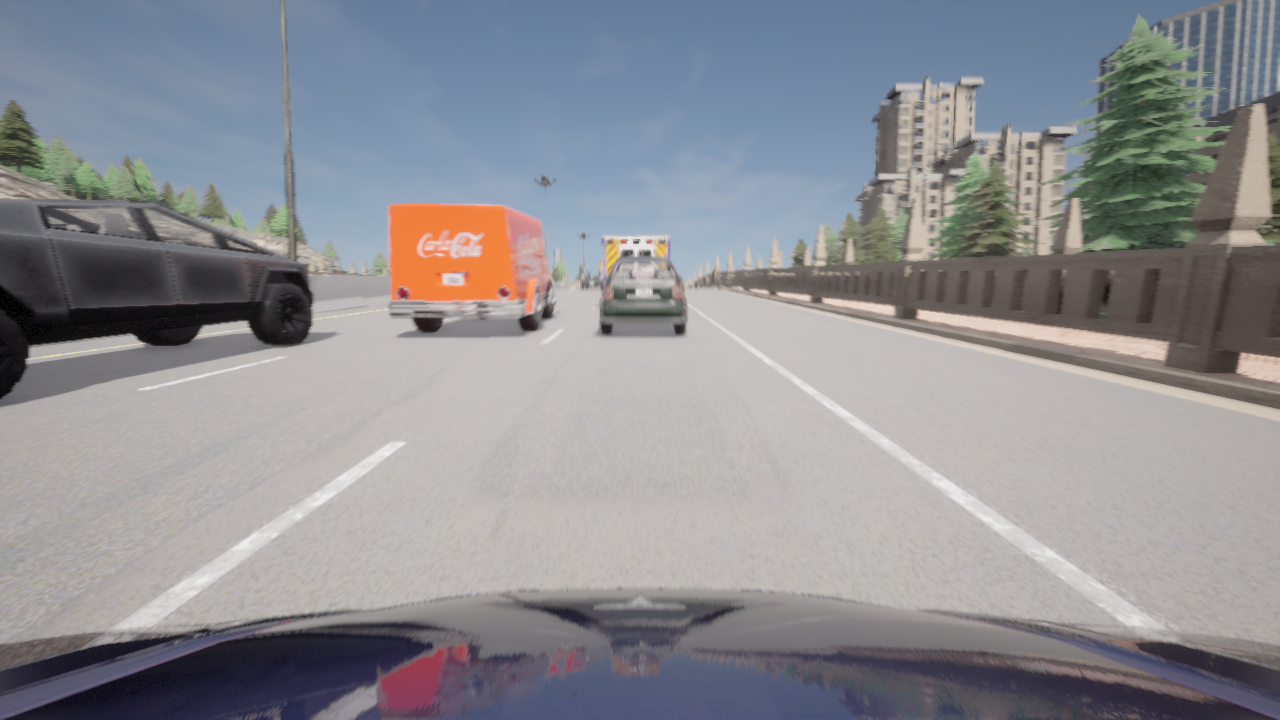cyclist: (0, 588, 1279, 719), (389, 204, 561, 331), (599, 257, 686, 335), (602, 236, 670, 286), (581, 269, 602, 290), (599, 259, 602, 271)
